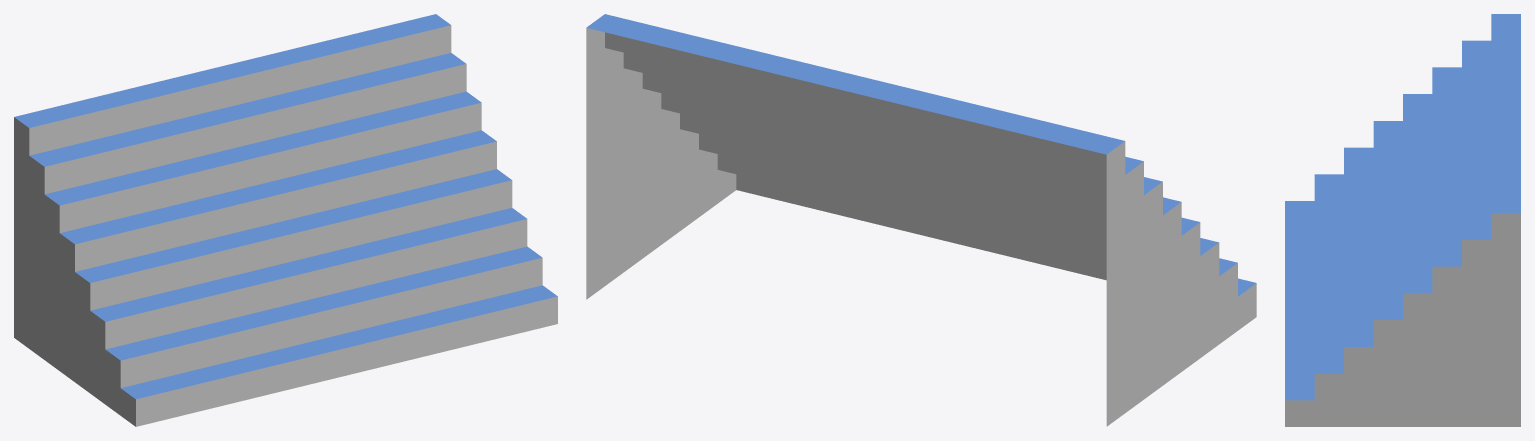
The model's file is stairs_1_4x2.glb.
3 renders of one model, left to right at view 1: azimuth 30°, elevation 25°; view 2: azimuth 150°, elevation 25°; view 3: azimuth 270°, elevation 25°, orthographic. The views are drawn at different scales.
Visible parts, largest first — view 1: Cube; view 2: Cube; view 3: Cube.
Part boxes in pixels (left/top/right/bottom): Cube: left=14, top=14, right=557, bottom=426; Cube: left=586, top=14, right=1256, bottom=426; Cube: left=1285, top=14, right=1520, bottom=426.
Bounding box in the file's own units: 4 × 2 × 2.
